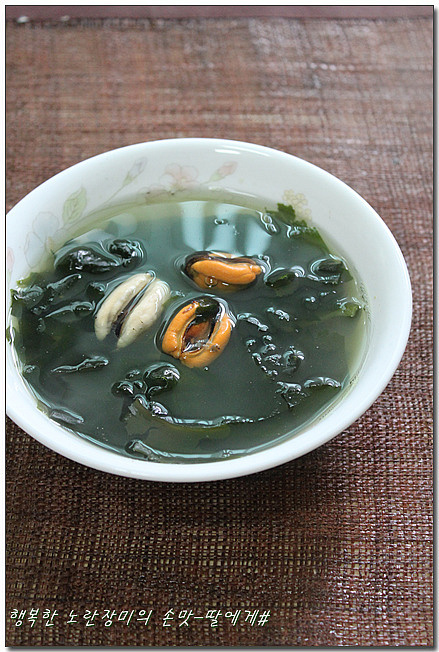miyeoggug: (2, 144, 389, 463)
